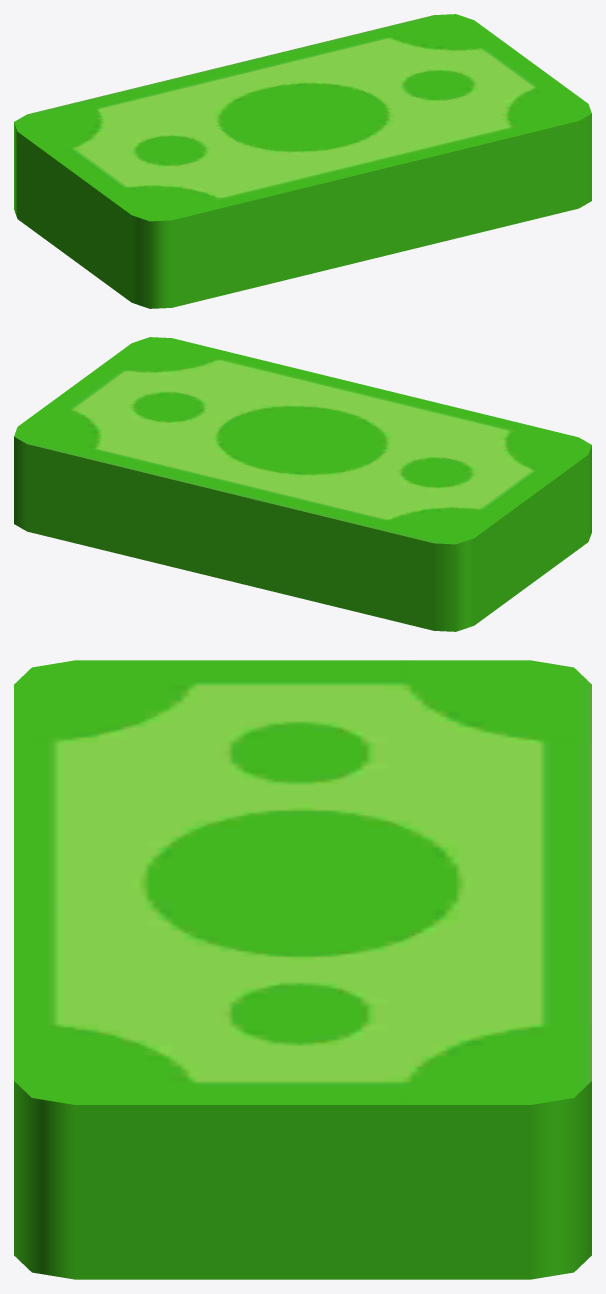
The model's file is Money.fbx.
3 renders of one model, top to bottom at view 1: azimuth 30°, elevation 25°; view 2: azimuth 150°, elevation 25°; view 3: azimuth 270°, elevation 25°, orthographic. The views are drawn at different scales.
Visible parts, largest first — view 1: Money; view 2: Money; view 3: Money.
Boxes of the visible parts, <box> form: Money: <box>14,14,591,308</box>; Money: <box>14,337,591,631</box>; Money: <box>14,660,591,1279</box>.
Size of the model in its own units: 28.79 by 5.27 by 15.82.
